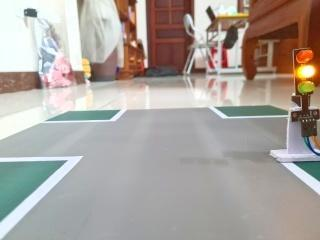yellow: (279, 40, 320, 110)
